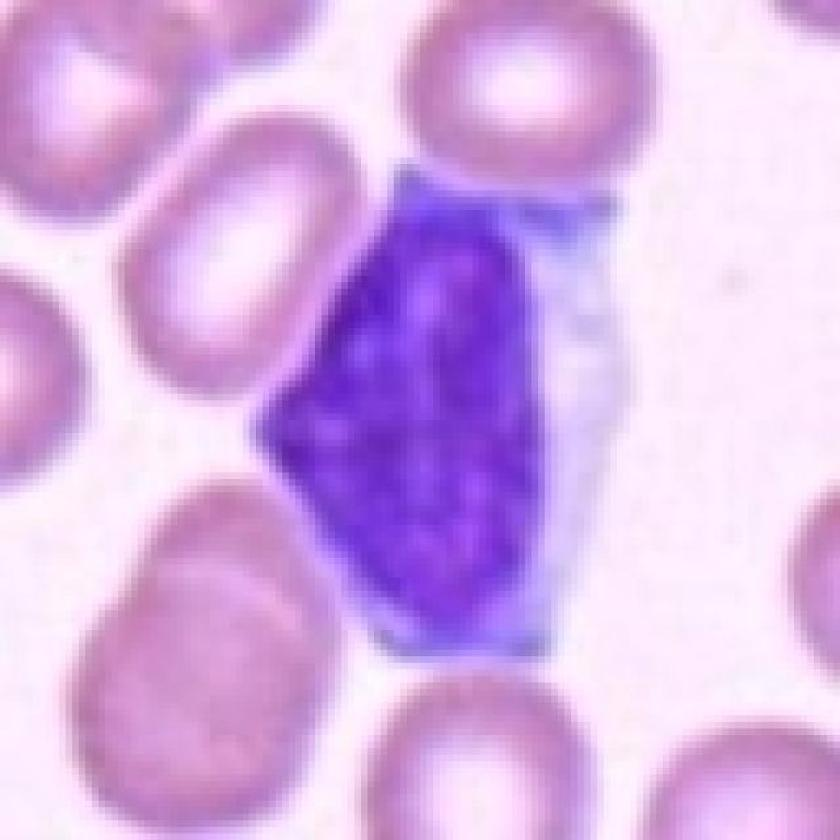lymphocyte: (248, 134, 648, 678)
